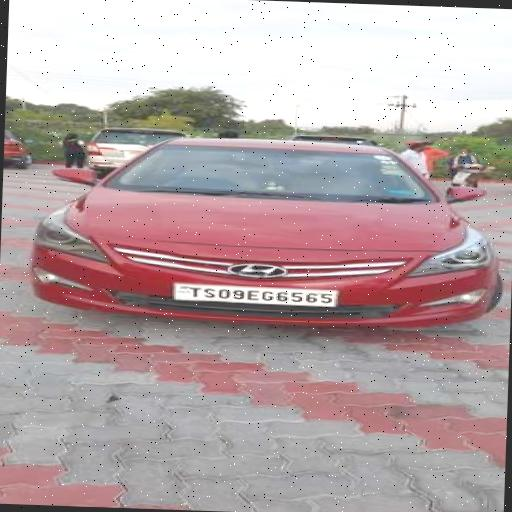license_plate`: (169, 282, 334, 305)
